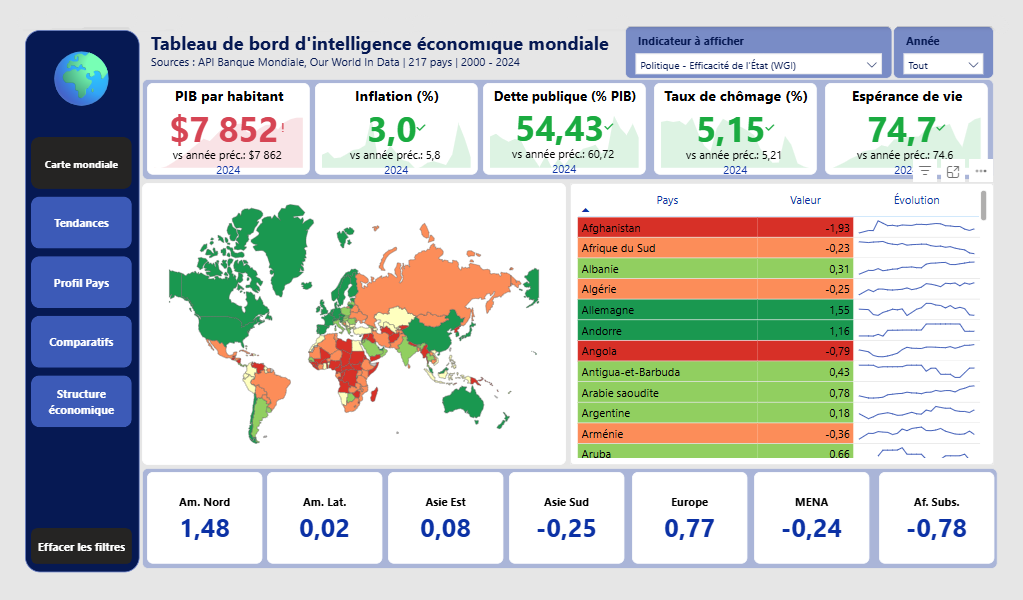

What the dashboard file says about the page in this screenshot:
{"tool":"powerbi","page":{"name":"Carte mondiale","canvas":[1280,720],"ordinal":0},"visuals":[{"type":"textbox","box":[4.7,5.3,150,710],"z":0},{"type":"textbox","box":[158.7,69.1,1115.2,132.2],"z":1000},{"type":"textbox","box":[158.3,578.9,1120,131.7],"z":2000},{"type":"textbox","box":[164.6,0,626,64.7],"z":3000},{"type":"slicer","fields":{"Values":["Dim_Time.year"]},"box":[1141.7,0,132.2,69],"z":4000},{"type":"pageNavigator","box":[13.2,145.5,132.2,380.6],"z":5000},{"type":"actionButton","box":[13.2,656.8,132.2,47.3],"z":6000},{"type":"textbox","box":[13.2,11.8,132.2,105.8],"z":7000},{"type":"slicer","fields":{"Values":["Dim_Indicator.label_fr"]},"box":[790.5,0,349.7,69.1],"z":8000},{"type":"kpi","title":"PIB par habitant","fields":{"Indicator":["Mesures.PIB par habitant"],"Goal":["Mesures.PIB par habitant A-1"],"TrendLine":["Dim_Time.year"]},"box":[164.6,74.9,213.1,120.5],"z":9000},{"type":"kpi","title":"Inflation (%)","fields":{"TrendLine":["Dim_Time.year"],"Indicator":["Mesures.Inflation KPI"],"Goal":["Mesures.Inflation KPI A-1"]},"box":[384.3,74.8,213,120.5],"z":10000},{"type":"kpi","title":"Dette publique (% PIB)","fields":{"TrendLine":["Dim_Time.year"],"Indicator":["Mesures.Dette KPI"],"Goal":["Mesures.Dette KPI A-1"]},"box":[604.3,74.8,213,120.5],"z":11000},{"type":"kpi","title":"Taux de chômage (%)","fields":{"TrendLine":["Dim_Time.year"],"Indicator":["Mesures.Chômage KPI"],"Goal":["Mesures.Chômage KPI A-1"]},"box":[829.1,74.8,213,120.5],"z":12000},{"type":"kpi","title":"Espérance de vie","fields":{"TrendLine":["Dim_Time.year"],"Indicator":["Mesures.Espérance KPI"],"Goal":["Mesures.Espérance KPI A-1"]},"box":[1053,74.8,213,120.5],"z":13000},{"type":"tableEx","fields":{"Values":["Dim_Country.Pays","Mesures.Valeur carte","SparklineData(Mesures.Valeur carte_[Dim_Time.year])"]},"box":[718.5,205.7,555.2,369.1],"z":14000},{"type":"cardVisual","fields":{"Data":["Mesures.Médiane Am Nord"]},"box":[164.6,583.3,151.3,120.5],"z":15000},{"type":"cardVisual","fields":{"Data":["Mesures.Médiane Am Lat"]},"box":[322.7,583.3,151.3,120.5],"z":16000},{"type":"cardVisual","fields":{"Data":["Mesures.Médiane Asie Est"]},"box":[480,583.3,151.3,120.5],"z":17000},{"type":"cardVisual","fields":{"Data":["Mesures.Médiane Asie Sud"]},"box":[638.7,583.3,151.3,120.5],"z":18000},{"type":"cardVisual","fields":{"Data":["Mesures.Médiane Europe"]},"box":[800,583.3,151.3,120.5],"z":19000},{"type":"cardVisual","fields":{"Data":["Mesures.Médiane MENA"]},"box":[959.5,583.3,151.3,120.5],"z":20000},{"type":"cardVisual","fields":{"Data":["Mesures.Médiane Af Subs"]},"box":[1122.6,583.3,151.3,120.5],"z":21000},{"type":"shapeMap","fields":{"Category":["Dim_Country.iso3"]},"box":[158.7,205.2,555.2,369.1],"z":22000}]}

Visuals, with their boxes on the page's 1280x720 design canvas (x1, y1, x2, y2). These are canvas units, not pixel positions in the 1023x600 screenshot, which may show the page scaled, cropped or inside an application window:
textbox: {"x1": 5, "y1": 5, "x2": 155, "y2": 715}
textbox: {"x1": 159, "y1": 69, "x2": 1274, "y2": 201}
textbox: {"x1": 158, "y1": 579, "x2": 1278, "y2": 711}
textbox: {"x1": 165, "y1": 0, "x2": 791, "y2": 65}
slicer - Dim_Time.year: {"x1": 1142, "y1": 0, "x2": 1274, "y2": 69}
pageNavigator: {"x1": 13, "y1": 146, "x2": 145, "y2": 526}
actionButton: {"x1": 13, "y1": 657, "x2": 145, "y2": 704}
textbox: {"x1": 13, "y1": 12, "x2": 145, "y2": 118}
slicer - Dim_Indicator.label_fr: {"x1": 790, "y1": 0, "x2": 1140, "y2": 69}
"PIB par habitant" kpi: {"x1": 165, "y1": 75, "x2": 378, "y2": 195}
"Inflation (%)" kpi: {"x1": 384, "y1": 75, "x2": 597, "y2": 195}
"Dette publique (% PIB)" kpi: {"x1": 604, "y1": 75, "x2": 817, "y2": 195}
"Taux de chômage (%)" kpi: {"x1": 829, "y1": 75, "x2": 1042, "y2": 195}
"Espérance de vie" kpi: {"x1": 1053, "y1": 75, "x2": 1266, "y2": 195}
tableEx - Dim_Country.Pays x Mesures.Valeur carte: {"x1": 718, "y1": 206, "x2": 1274, "y2": 575}
cardVisual - Mesures.Médiane Am Nord: {"x1": 165, "y1": 583, "x2": 316, "y2": 704}
cardVisual - Mesures.Médiane Am Lat: {"x1": 323, "y1": 583, "x2": 474, "y2": 704}
cardVisual - Mesures.Médiane Asie Est: {"x1": 480, "y1": 583, "x2": 631, "y2": 704}
cardVisual - Mesures.Médiane Asie Sud: {"x1": 639, "y1": 583, "x2": 790, "y2": 704}
cardVisual - Mesures.Médiane Europe: {"x1": 800, "y1": 583, "x2": 951, "y2": 704}
cardVisual - Mesures.Médiane MENA: {"x1": 960, "y1": 583, "x2": 1111, "y2": 704}
cardVisual - Mesures.Médiane Af Subs: {"x1": 1123, "y1": 583, "x2": 1274, "y2": 704}
shapeMap - Dim_Country.iso3: {"x1": 159, "y1": 205, "x2": 714, "y2": 574}
